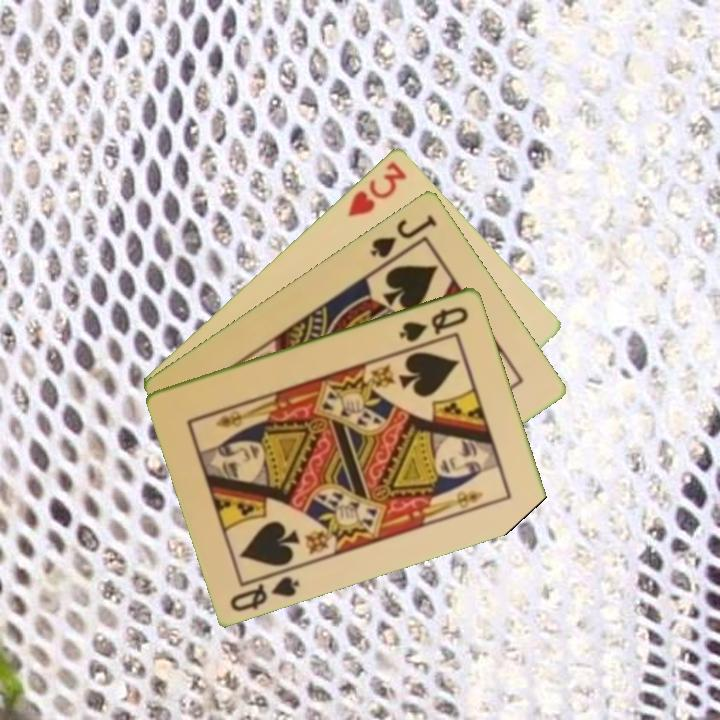3h: (344, 157, 410, 219)
Js: (366, 210, 440, 261)
Qs: (227, 564, 303, 614), (396, 302, 472, 345)
